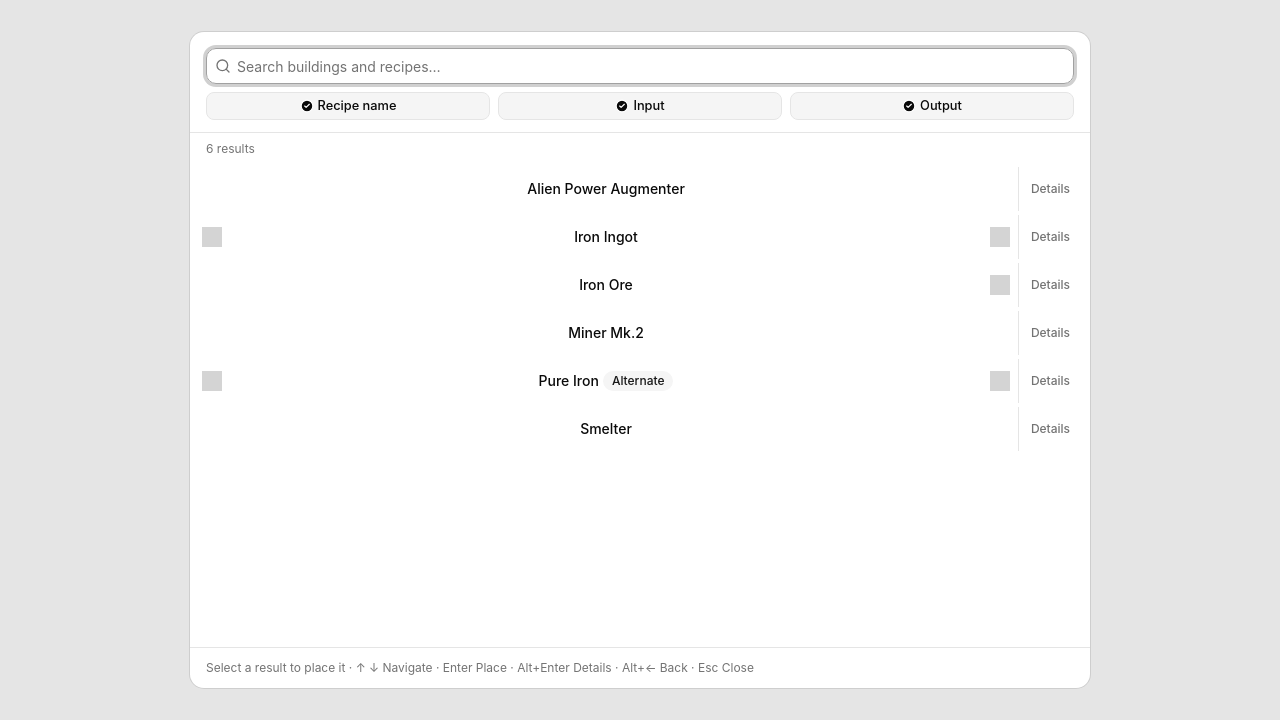
it: returns from recipe details to scoped results before leaving the machine scope
Type "smelter" into the dropdown. click: (652,66)
box: left=231, top=50, right=1073, bottom=82
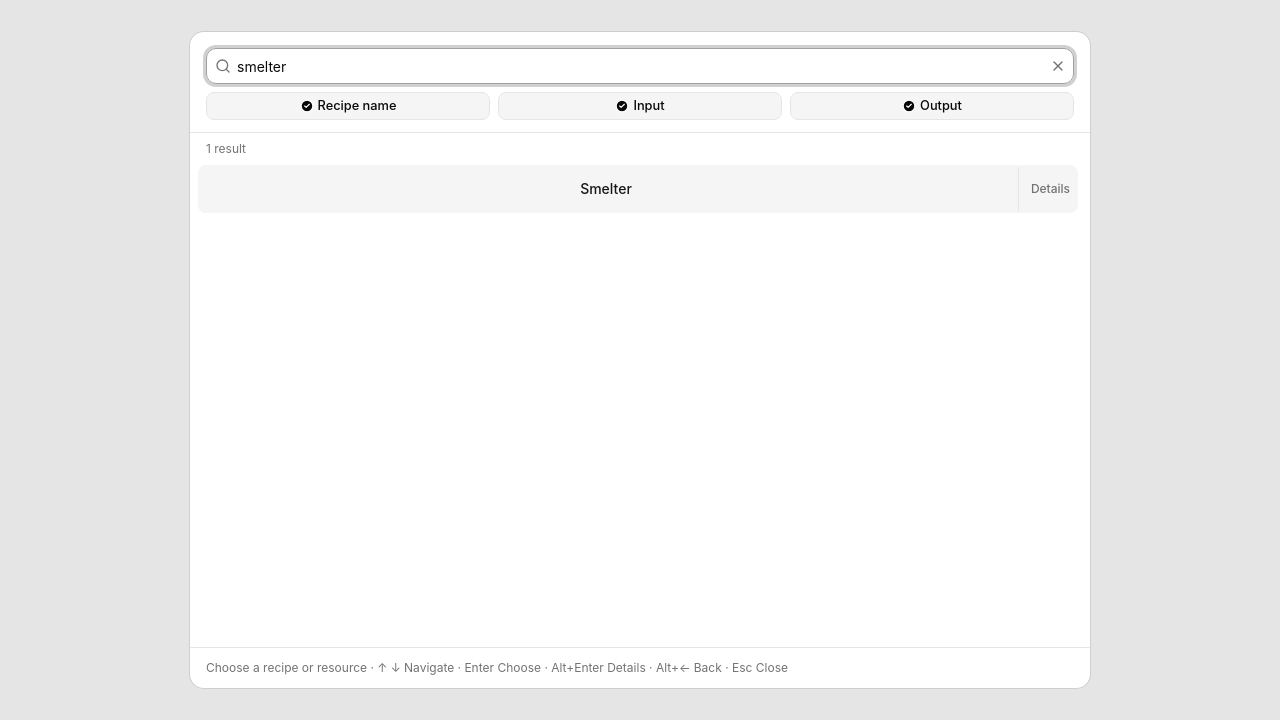
Press Enter
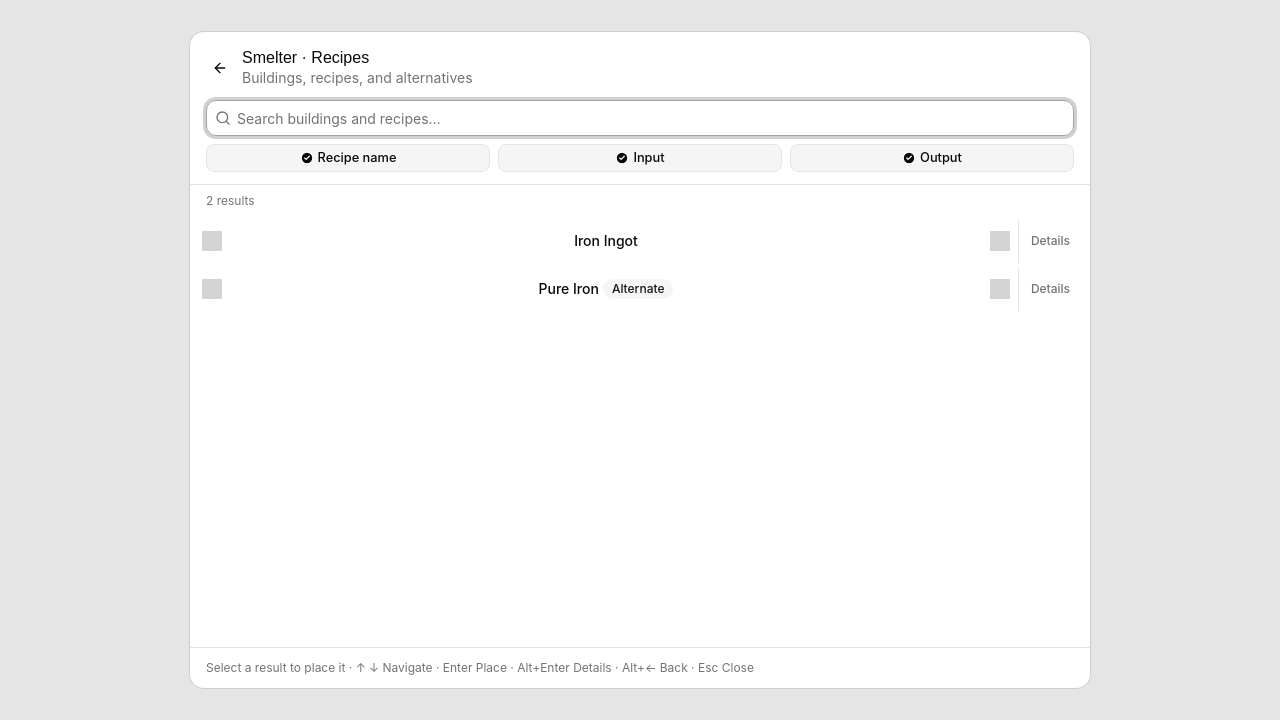
Expected: the heading "Smelter · Recipes" is shown, left=242, top=50, right=369, bottom=66
Type "iron" into the dropdown. click: (652,118)
box: left=231, top=102, right=1073, bottom=134
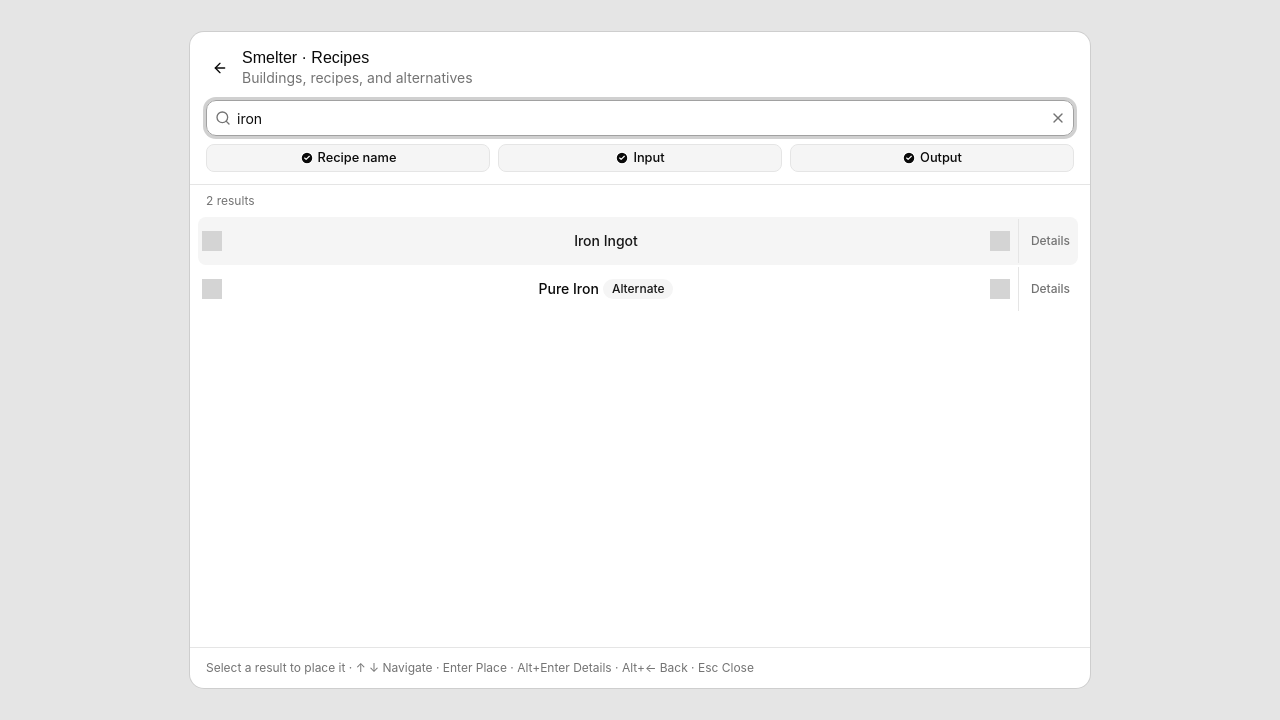
Click the button with aria-label "Details for Pure Iron". click: (1050,289)
box: left=1023, top=267, right=1078, bottom=311
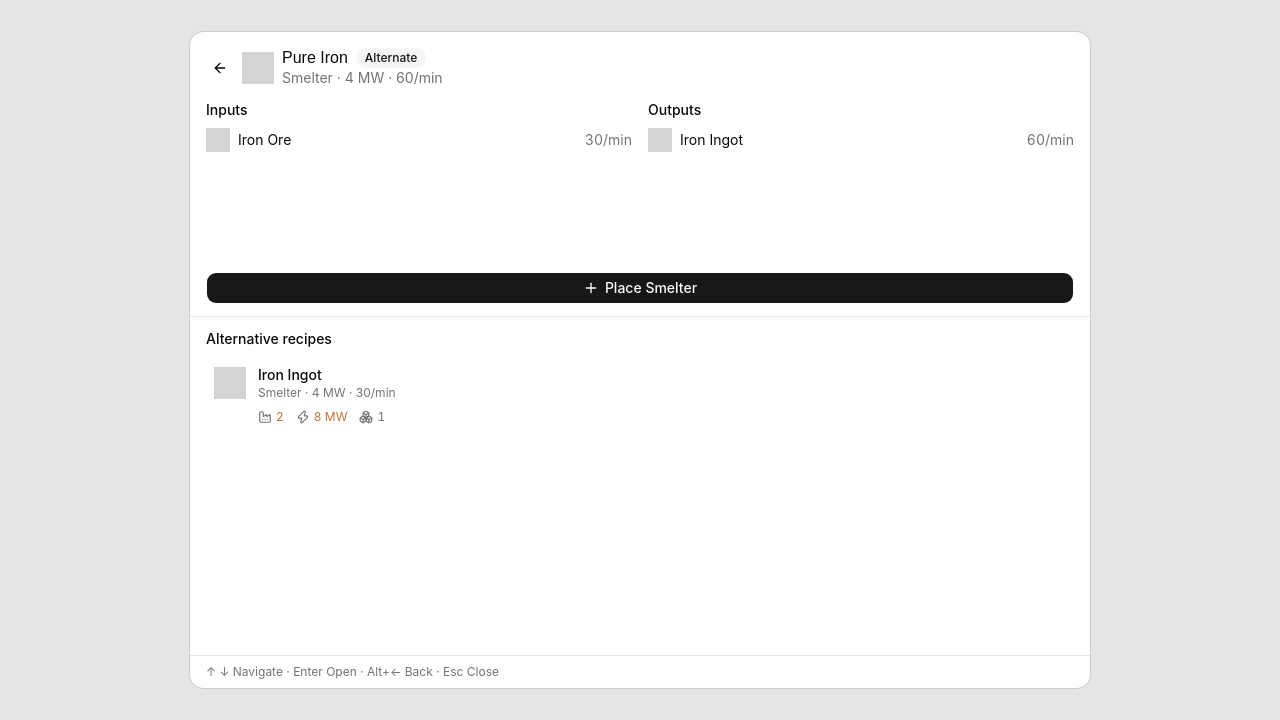
Click the button named "Back to results". click: (220,68)
box: left=206, top=54, right=234, bottom=82
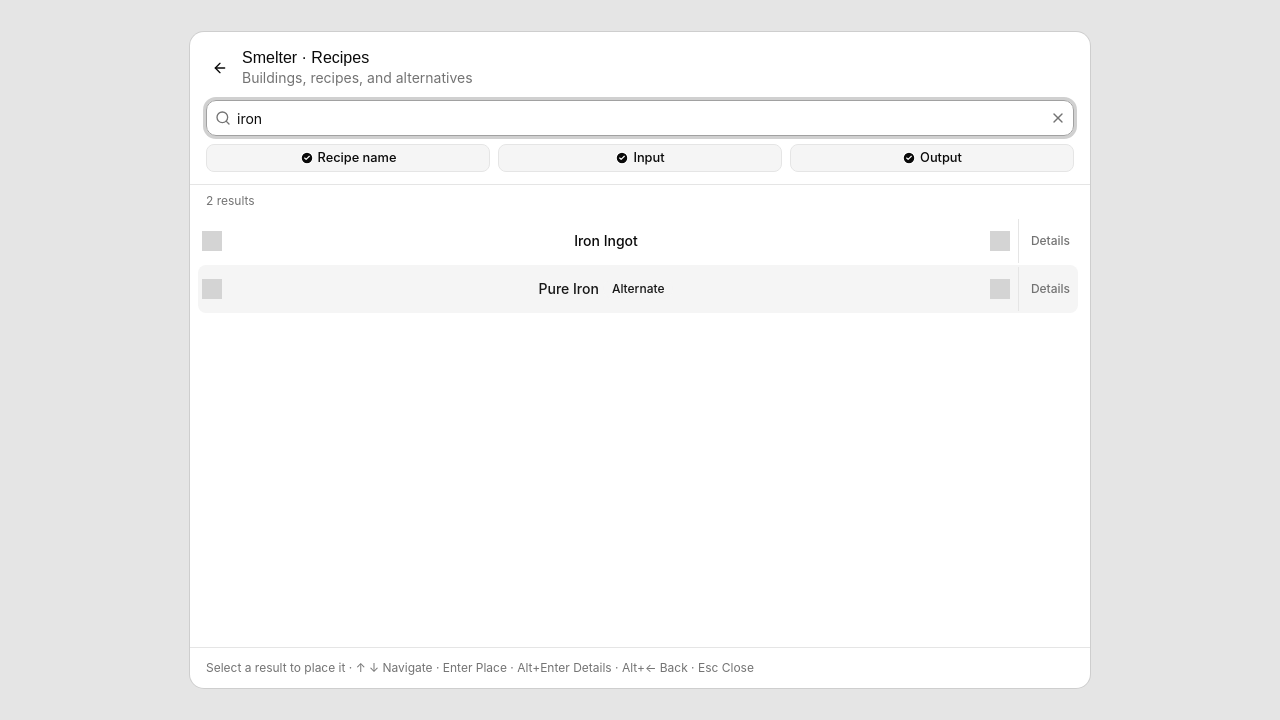
Expected: the heading "Smelter · Recipes" is shown, left=242, top=50, right=369, bottom=66
Type keys "{Alt>}{ArrowLeft}{/Alt}"
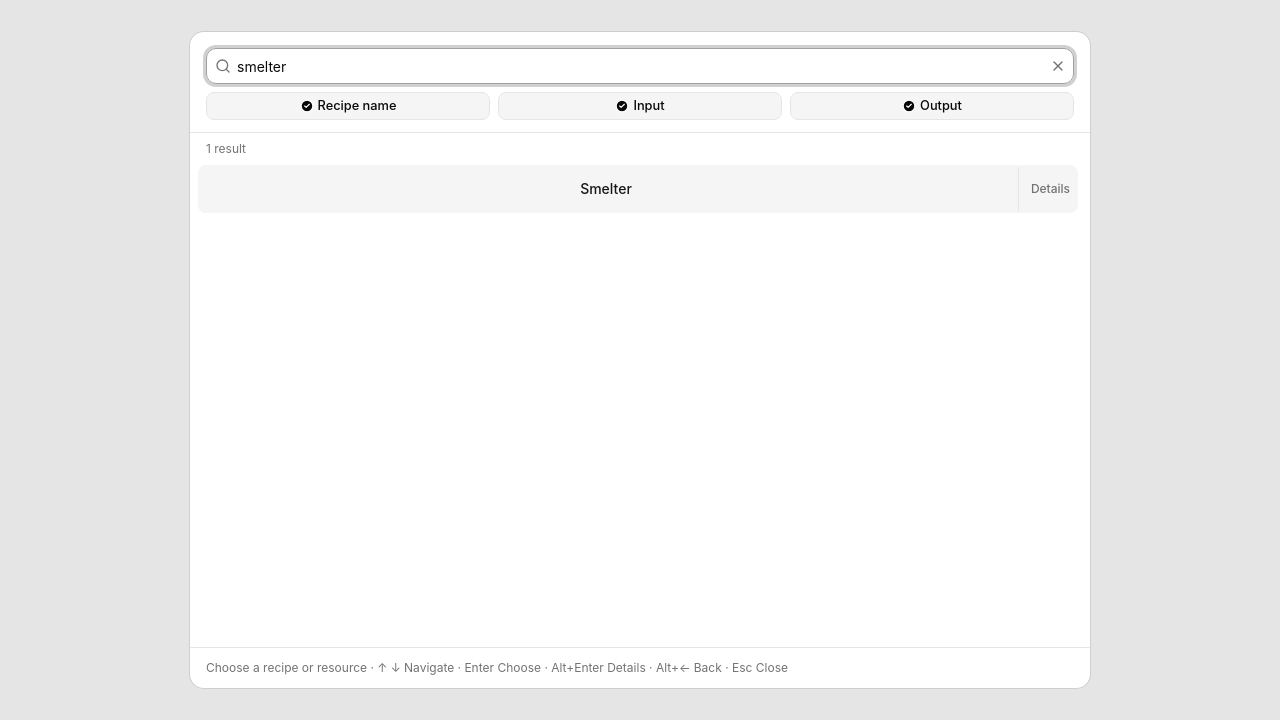
Expected: the dropdown holds "smelter", left=231, top=50, right=1046, bottom=82
